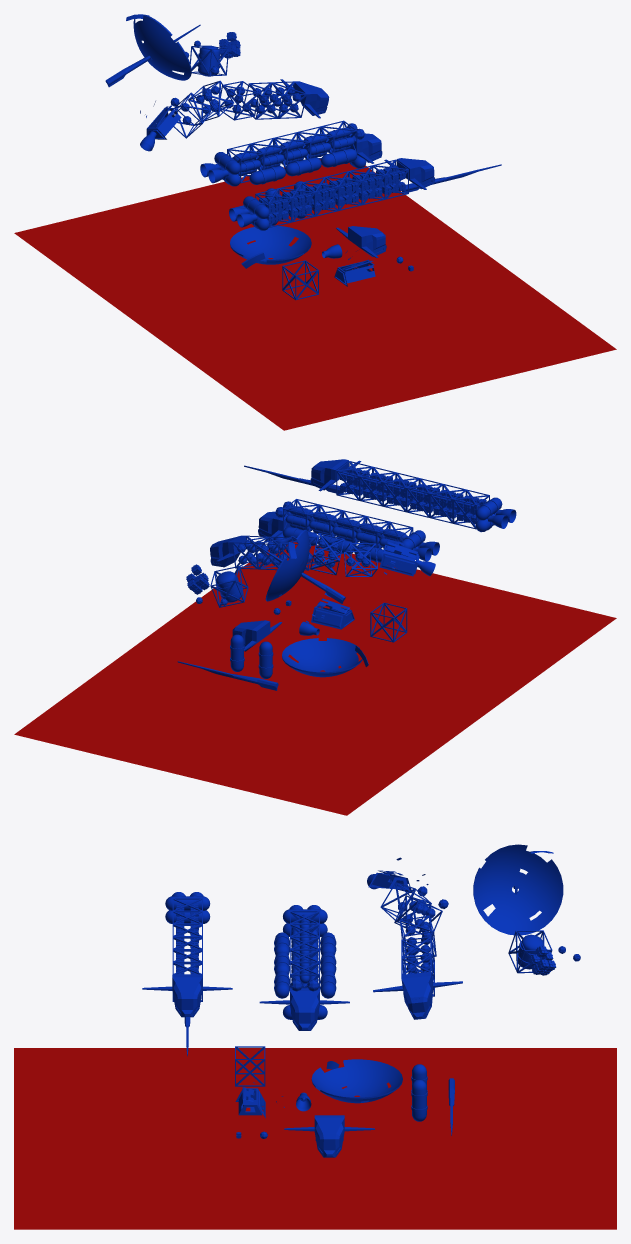
File: JunkYard2_SetTwo.fbx
3 views of the same model, one above another, from view 1: azimuth 30°, elevation 25°; view 2: azimuth 150°, elevation 25°; view 3: azimuth 270°, elevation 25° (orthographic). The views are drawn at different scales.
Visible parts, largest first — view 1: Plane001, U_Antenna01 001, U_Antenna01 002, U_Headmodule01 002, U_Headmodule01 001, U_Headmodule01 004, U_Enginesmodule01 001, Scaffold01v2 001, U_Enginesmodule01 002, U_Headmodule01 003, Scaffold01v2 015, Scaffold01v2 016 (+1 smaller); view 2: Plane001, U_Antenna01 001, U_Antenna01 002, U_Enginesmodule01 002, U_Enginesmodule01 001, U_Headmodule01 001, U_Headmodule01 002, U_Headmodule01 004, Scaffold01v2 001, Scaffold01v2 017, Scaffold01v2 016, U_Headmodule01 003 (+12 smaller); view 3: Plane001, U_Antenna01 002, U_Antenna01 001, U_Headmodule01 004, U_Headmodule01 001, U_Headmodule01 002, U_Headmodule01 003, U_Enginesmodule01 001, Scaffold01v2 001, Scaffold01v2 017, U_Enginesmodule01 002, Tank01v3 001 (+2 smaller).
Part boxes in pixels (x1,y1,x2,y2): Plane001: (14,159,616,430); U_Antenna01 001: (230,225,311,268); U_Antenna01 002: (126,14,191,80); U_Headmodule01 002: (336,226,386,257); U_Headmodule01 001: (384,158,434,189); U_Headmodule01 004: (280,79,329,118); U_Enginesmodule01 001: (334,249,375,286); Scaffold01v2 001: (282,260,318,300); U_Enginesmodule01 002: (140,101,181,139); U_Headmodule01 003: (347,133,382,163); Scaffold01v2 015: (220,81,259,120); Scaffold01v2 016: (188,80,233,121); Plane001: (14,541,616,815); U_Antenna01 001: (282,638,368,677); U_Antenna01 002: (265,529,309,601); U_Enginesmodule01 002: (379,541,419,576); U_Enginesmodule01 001: (306,593,354,629); U_Headmodule01 001: (310,459,361,491); U_Headmodule01 002: (232,620,282,651); U_Headmodule01 004: (210,535,259,567); Scaffold01v2 001: (370,602,407,642); Scaffold01v2 017: (343,543,377,576); Scaffold01v2 016: (310,533,344,575); U_Headmodule01 003: (258,511,293,541); Plane001: (14,1048,616,1229); U_Antenna01 002: (473,844,563,935); U_Antenna01 001: (311,1059,402,1103); U_Headmodule01 004: (373,972,462,1019); U_Headmodule01 001: (142,974,232,1017); U_Headmodule01 002: (284,1115,374,1157); U_Headmodule01 003: (259,988,349,1030); U_Enginesmodule01 001: (235,1082,284,1118); Scaffold01v2 001: (235,1046,265,1086); Scaffold01v2 017: (380,882,431,928); U_Enginesmodule01 002: (368,857,428,893); Tank01v3 001: (411,1079,427,1121).
Bounding box in the file's own units: 142 × 92.71 × 200.
